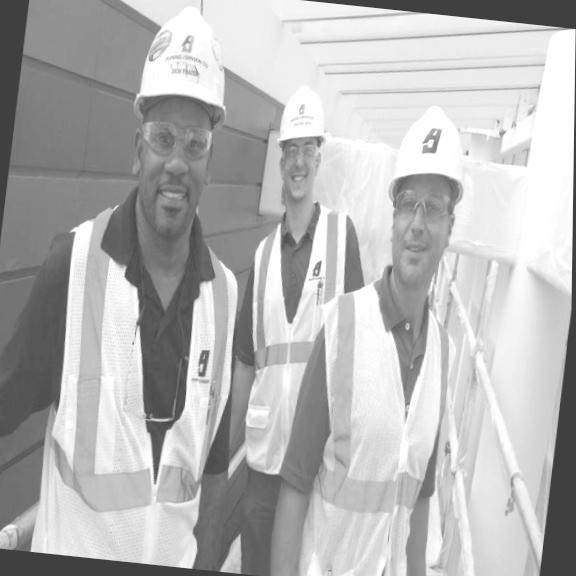safety_vest: (15, 194, 244, 556), (296, 271, 457, 576), (227, 198, 366, 500)
